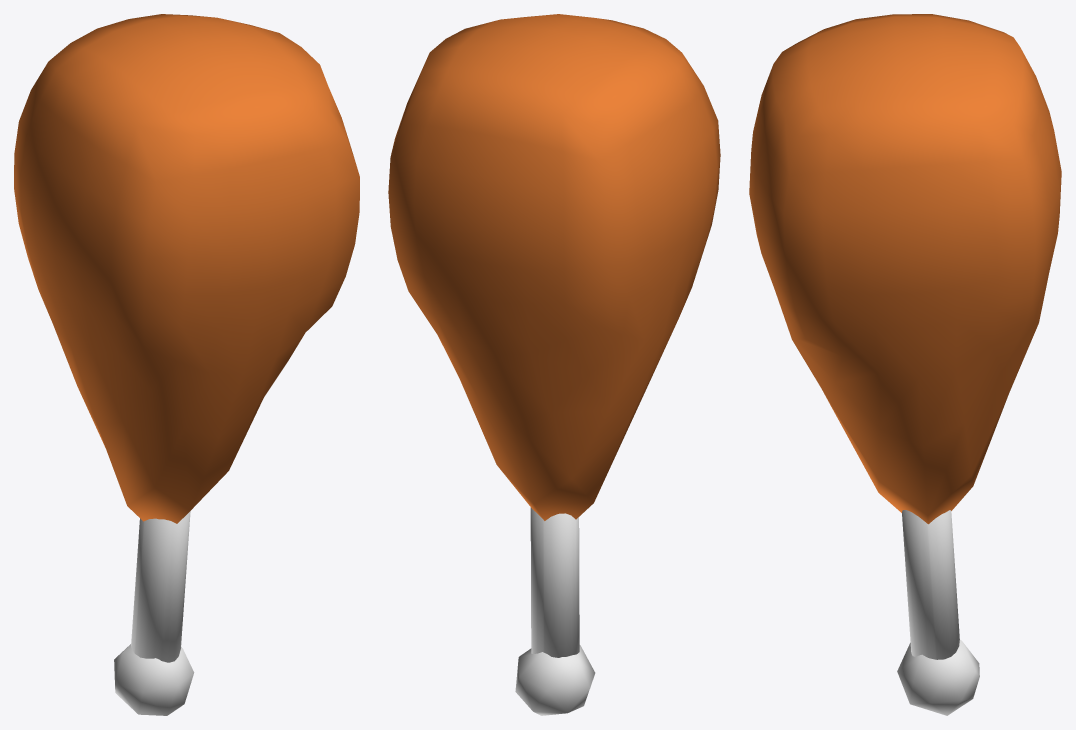
File: Chuckendrum.fbx
3 views of the same model, side by side, from view 1: azimuth 30°, elevation 25°; view 2: azimuth 150°, elevation 25°; view 3: azimuth 270°, elevation 25° (orthographic). The views are drawn at different scales.
Visible parts, largest first — view 1: Chickendrum; view 2: Chickendrum; view 3: Chickendrum.
Part boxes in pixels (x1,y1,x2,y2): Chickendrum: (14,14,359,715); Chickendrum: (388,14,720,715); Chickendrum: (749,14,1061,715).
Size of the model in its own units: 19.7 by 47.14 by 19.68.
